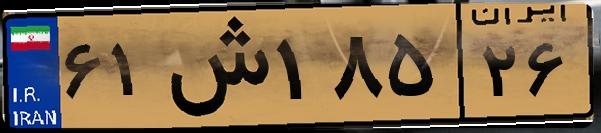1: (270, 28, 330, 110), (110, 28, 158, 98)
2: (475, 38, 525, 113)
5: (385, 28, 445, 110)
6: (57, 26, 110, 100), (525, 38, 570, 115)
8: (330, 28, 385, 110)
ش: (158, 12, 270, 120)
